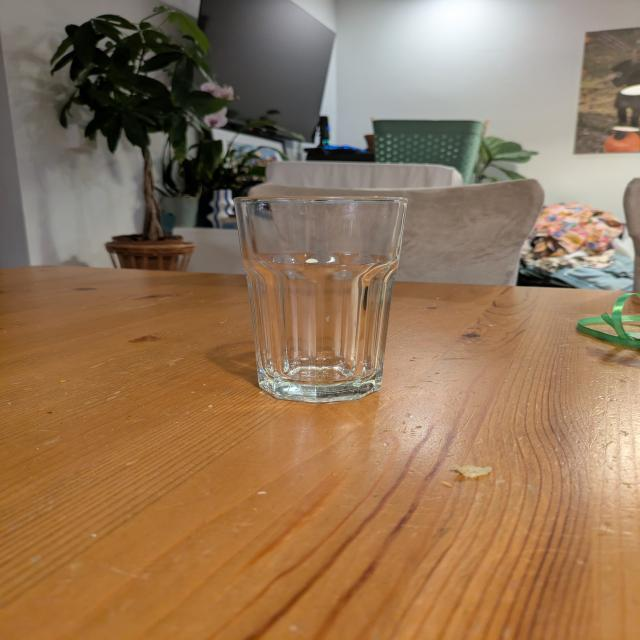ok g1: (231, 195, 410, 406)
